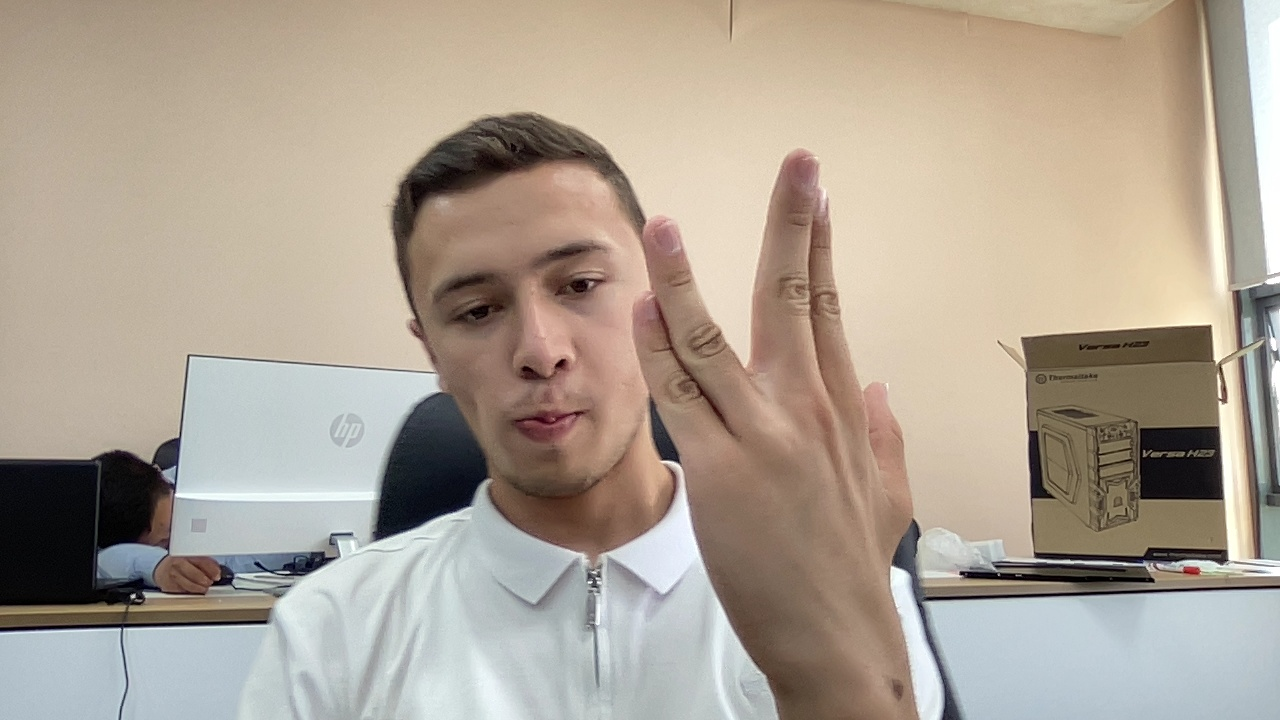livelong: (631, 149, 917, 550)
